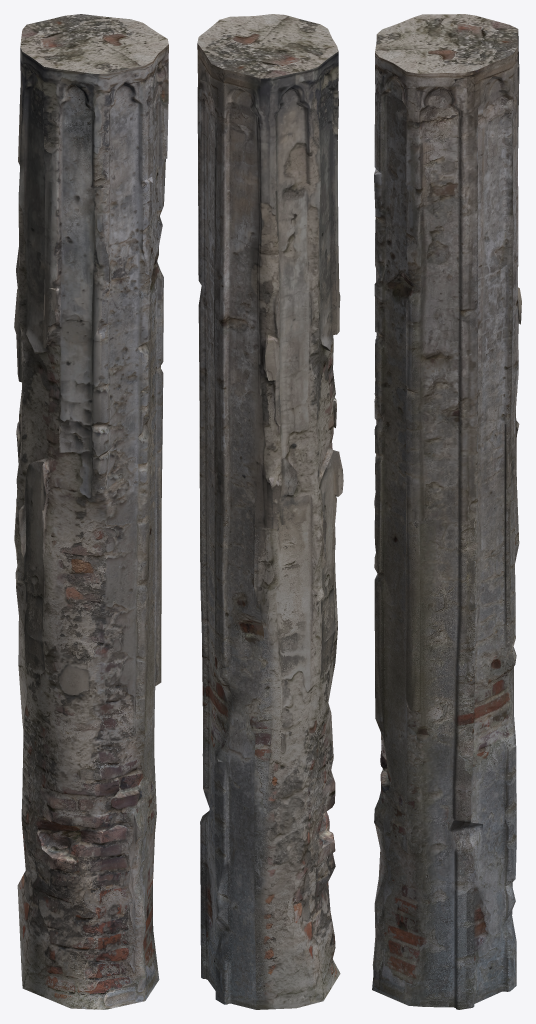
The model's file is SM_ChapelColumn_01_07.fbx.
3 views of the same model, side by side, from view 1: azimuth 30°, elevation 25°; view 2: azimuth 150°, elevation 25°; view 3: azimuth 270°, elevation 25° (orthographic).
Parts seen in each view (by area): view 1: sm_ChapelColumn_01_07_LOD0; view 2: sm_ChapelColumn_01_07_LOD0; view 3: sm_ChapelColumn_01_07_LOD0.
Boxes of the visible parts, x1=… form: sm_ChapelColumn_01_07_LOD0: x1=14, y1=14, x2=168, y2=1009; sm_ChapelColumn_01_07_LOD0: x1=197, y1=14, x2=343, y2=1009; sm_ChapelColumn_01_07_LOD0: x1=372, y1=14, x2=521, y2=1009.
Size of the model in its own units: 81.43 by 80.68 by 562.
